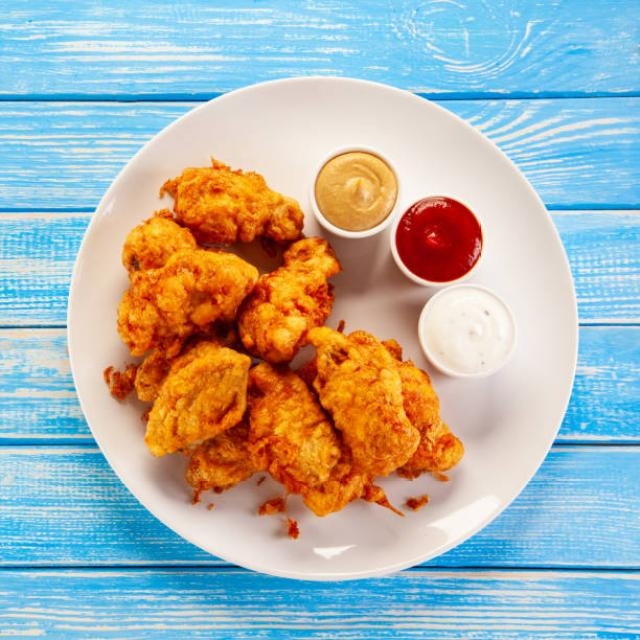Frango: (98, 153, 464, 536)
